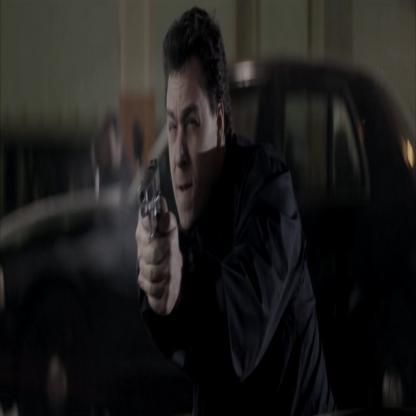gun: (125, 146, 173, 247)
